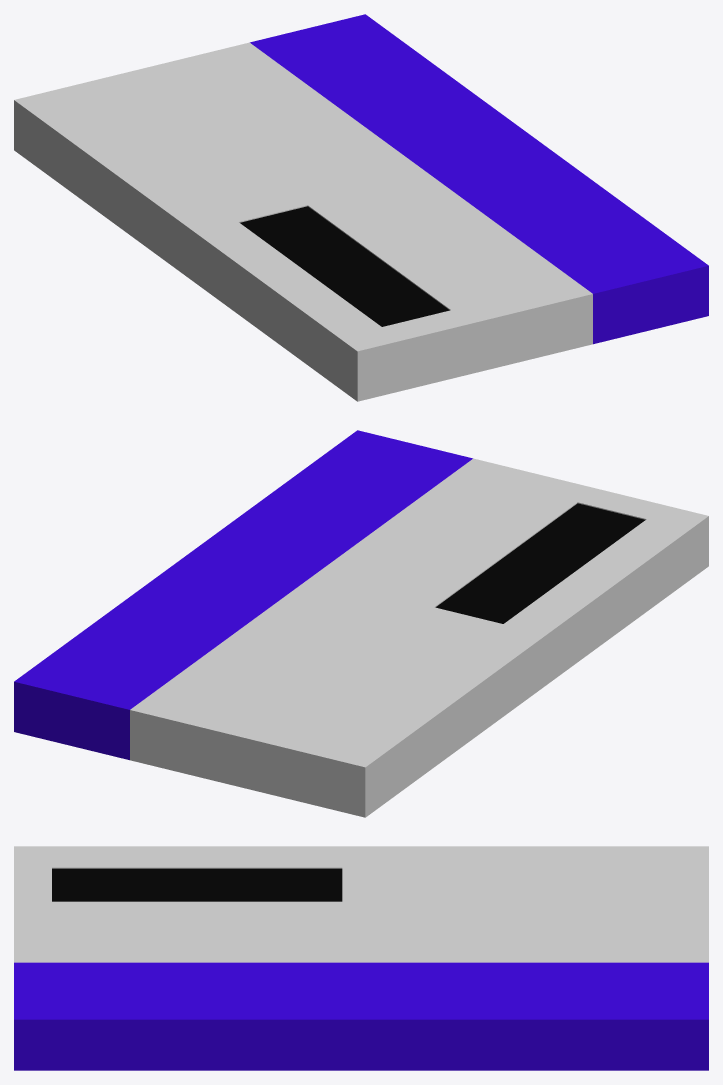
Rendered from blue card.glb.
3 renders of one model, top to bottom at view 1: azimuth 30°, elevation 25°; view 2: azimuth 150°, elevation 25°; view 3: azimuth 270°, elevation 25°, orthographic.
Visible parts, largest first — view 1: Cube2-col; view 2: Cube2-col; view 3: Cube2-col.
Boxes of the visible parts, x1=… form: Cube2-col: x1=14, y1=14, x2=708, y2=401; Cube2-col: x1=14, y1=430, x2=708, y2=817; Cube2-col: x1=14, y1=846, x2=708, y2=1070.
Bounding box in the file's own units: 0.95 × 0.13 × 1.61.
